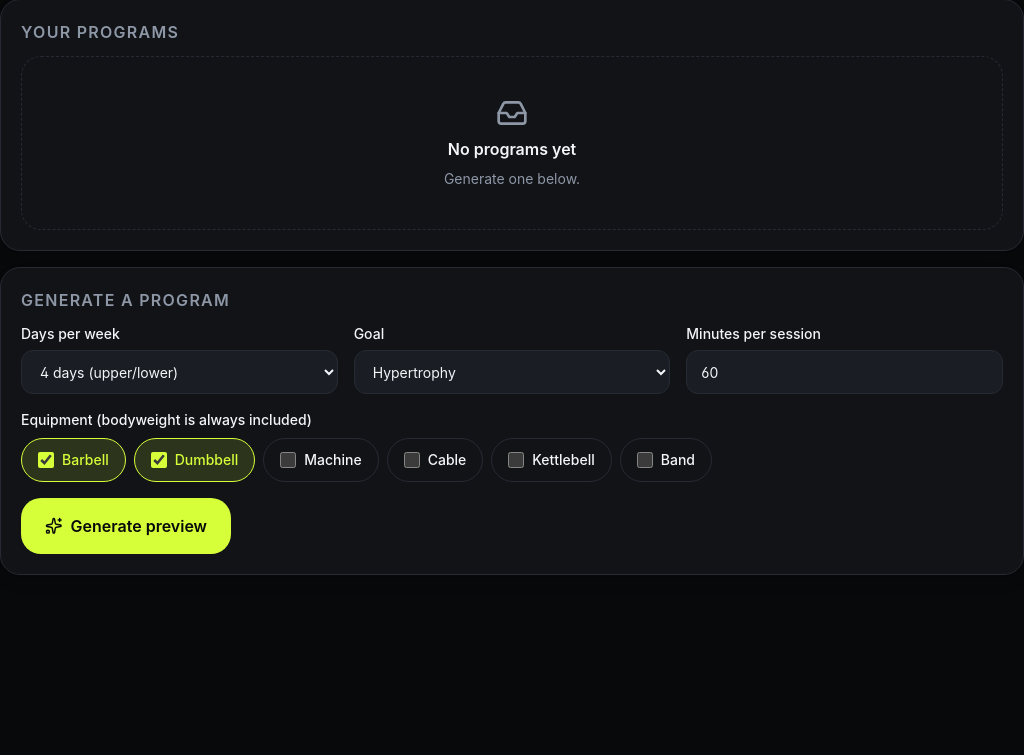
Test case: program builder › generates a preview, edits it, saves and activates
The width and height of the screenshot is (1024, 755).
Select "4 days (upper/lower)" in the dropdown labelled "Days per week" at [179, 372], box [21,350,338,394]
Click the checkbox labelled "Machine" at [288, 460], box [280,452,296,468]
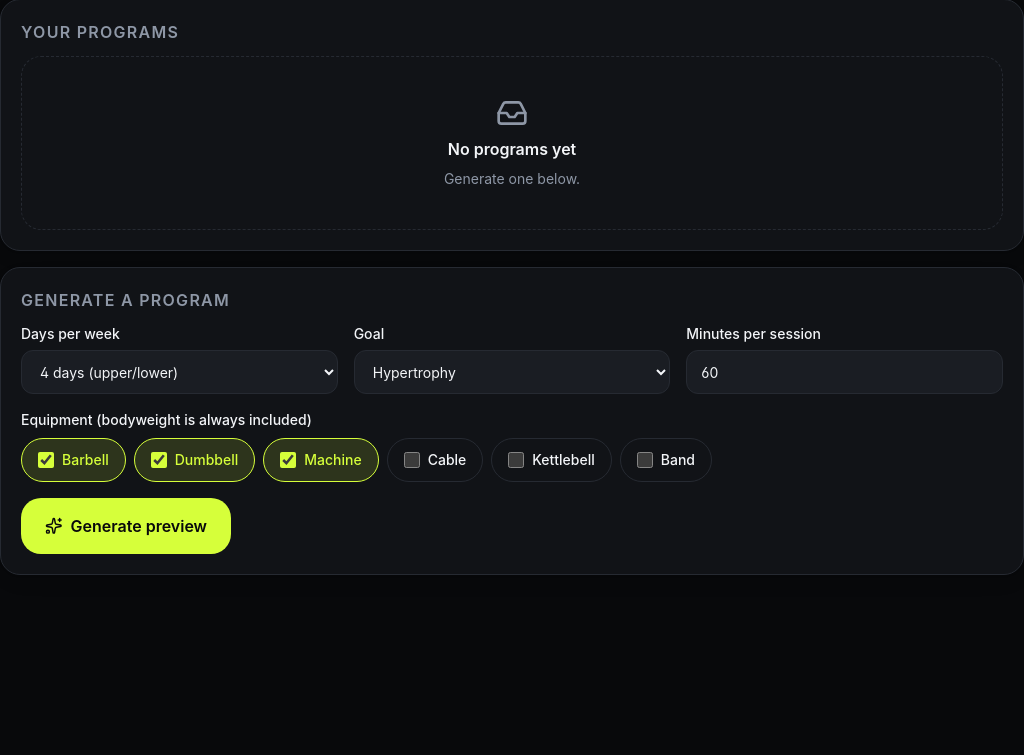
Click the button "Generate preview" at [126, 526], box [21,498,231,554]
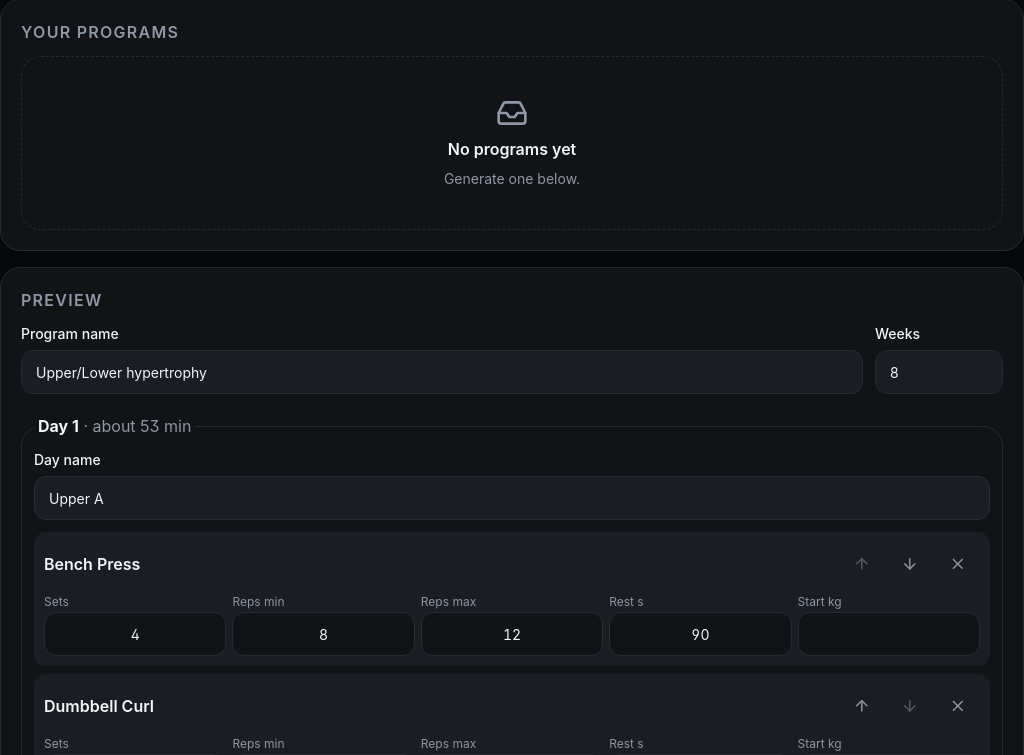
Check: the number of elements with test id "editor-day" is 2
Check: the element with test id "program-editor" shows "about 53 min", box [92,416,191,436]
# Reorder: curl first, then 4 sets → 5.
Click the button named "Move Dumbbell Curl up" at [862, 706], box [840,684,884,728]
(page scrolled)
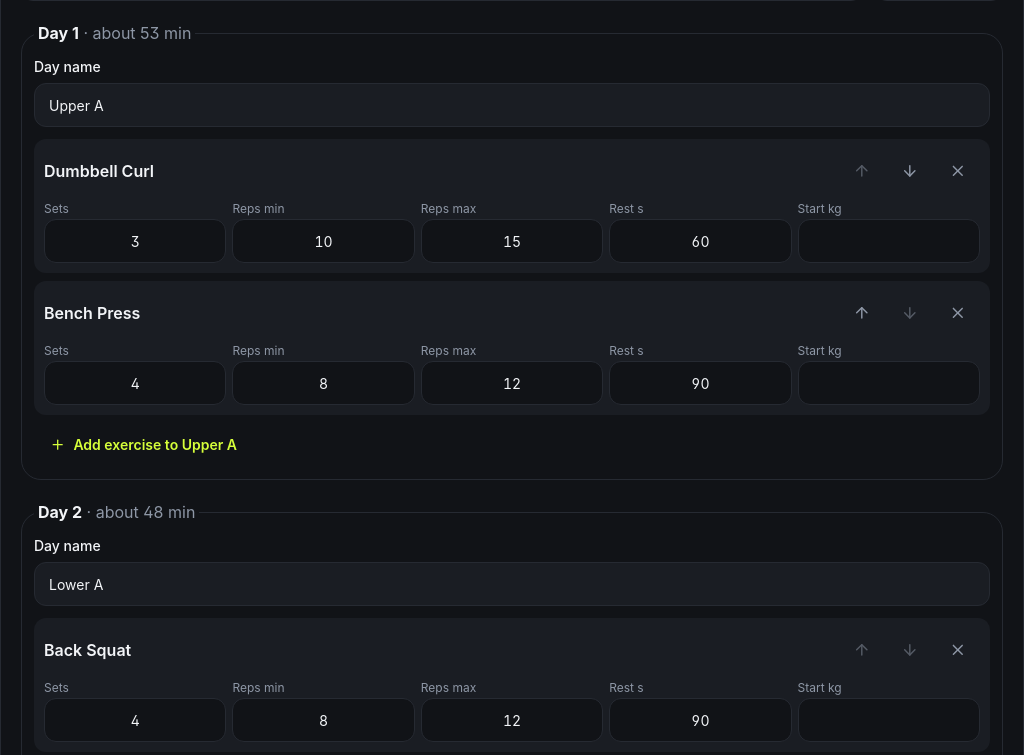
Replace the text in the field named "Sets, Bench Press" with "5" at [135, 383], box [44,361,226,405]
(page scrolled)
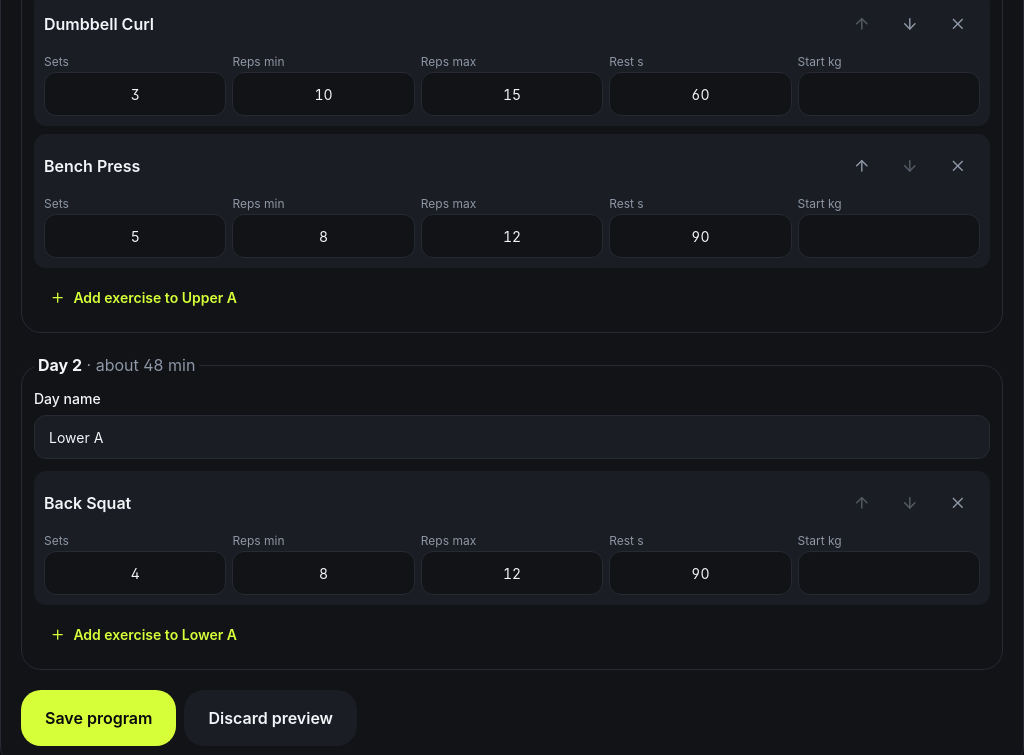
Click the button "Save program" at [99, 718], box [21,690,176,746]
(page scrolled)
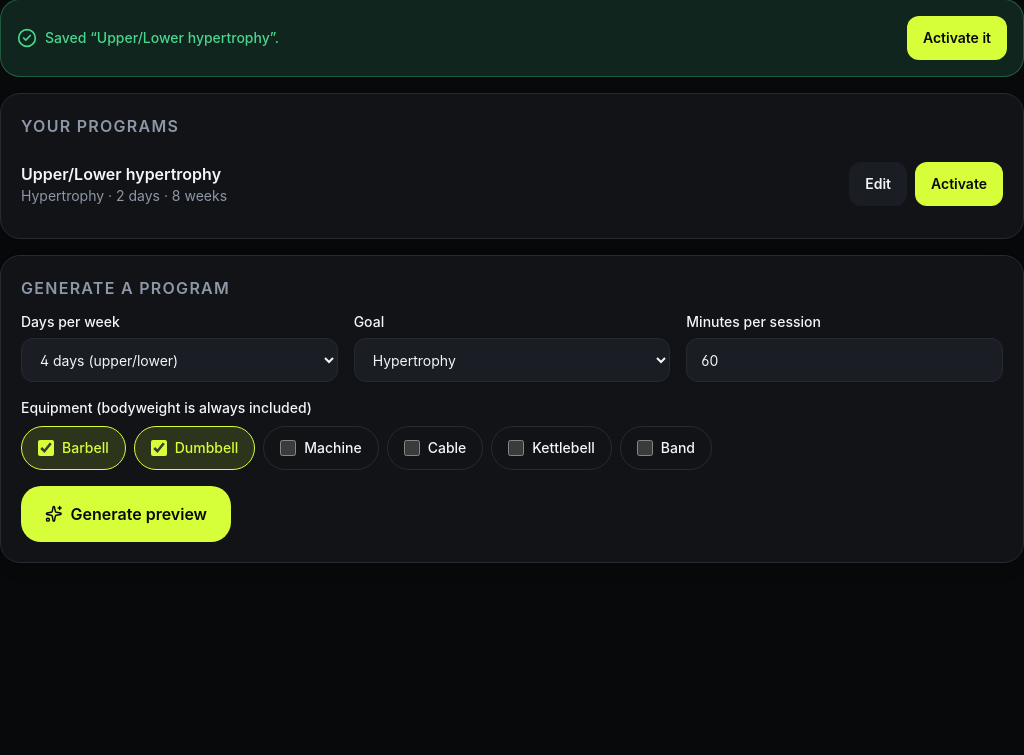
Check: the text "Saved “Upper/Lower hypertrophy”." is shown, box [17,28,279,48]
Click the button "Activate it" at [957, 38], box [907,16,1007,60]
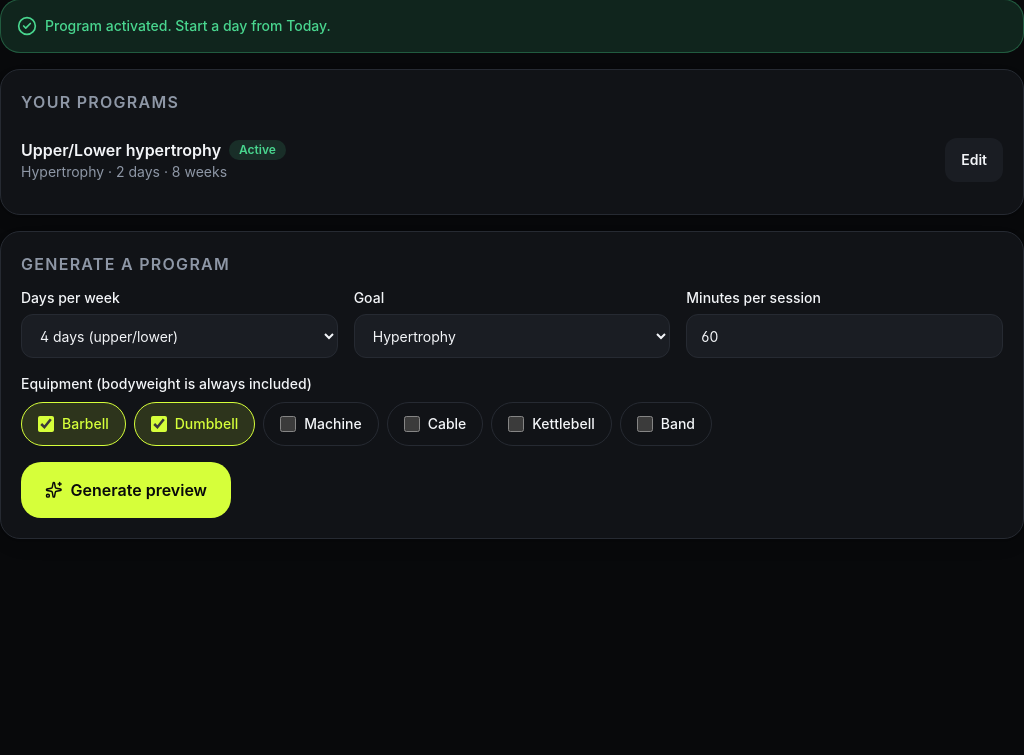
Check: the text "Program activated. Start a day from Today." is shown, box [17,16,331,36]
Check: the text "Active" is shown, box [229,140,286,160]
